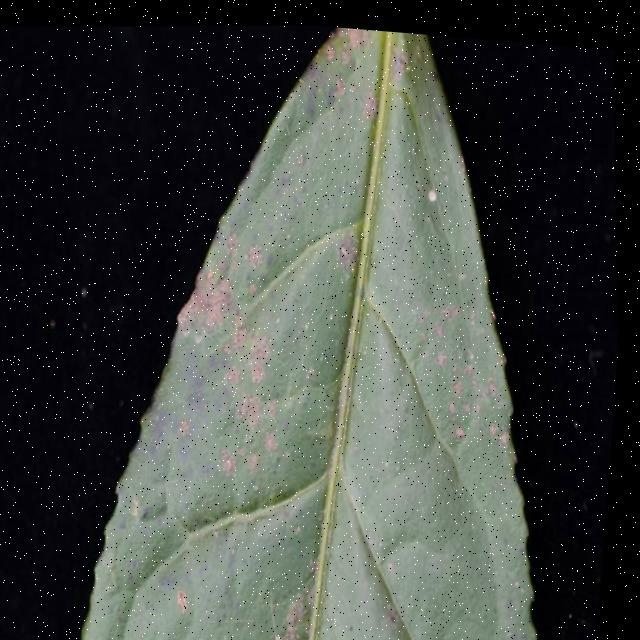Tea algae leaf spot: (95, 36, 580, 640)
